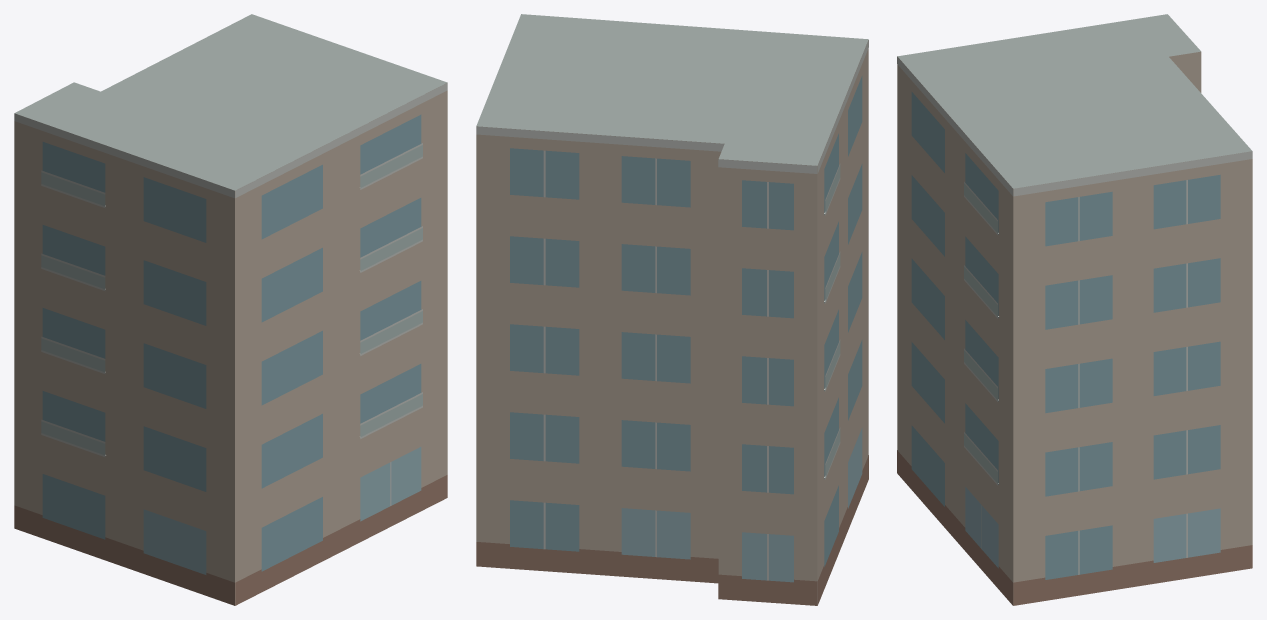
The model's file is survey-upis-32575870.glb.
3 views of the same model, side by side, from view 1: azimuth 30°, elevation 25°; view 2: azimuth 150°, elevation 25°; view 3: azimuth 270°, elevation 25° (orthographic). The views are drawn at different scales.
Parts seen in each view (by area): view 1: survey-upis-32575870.tmp; view 2: survey-upis-32575870.tmp; view 3: survey-upis-32575870.tmp.
Boxes of the visible parts, <box> form: survey-upis-32575870.tmp: <box>14,14,447,605</box>; survey-upis-32575870.tmp: <box>476,14,868,605</box>; survey-upis-32575870.tmp: <box>897,14,1252,605</box>.
Bounding box in the file's own units: 11.78 × 13.1 × 10.12.
